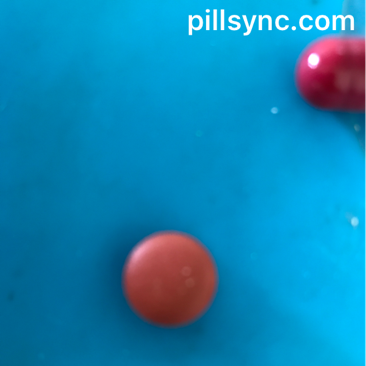Ibuprofen 200 MG Oral Tablet: (115, 226, 221, 334)
